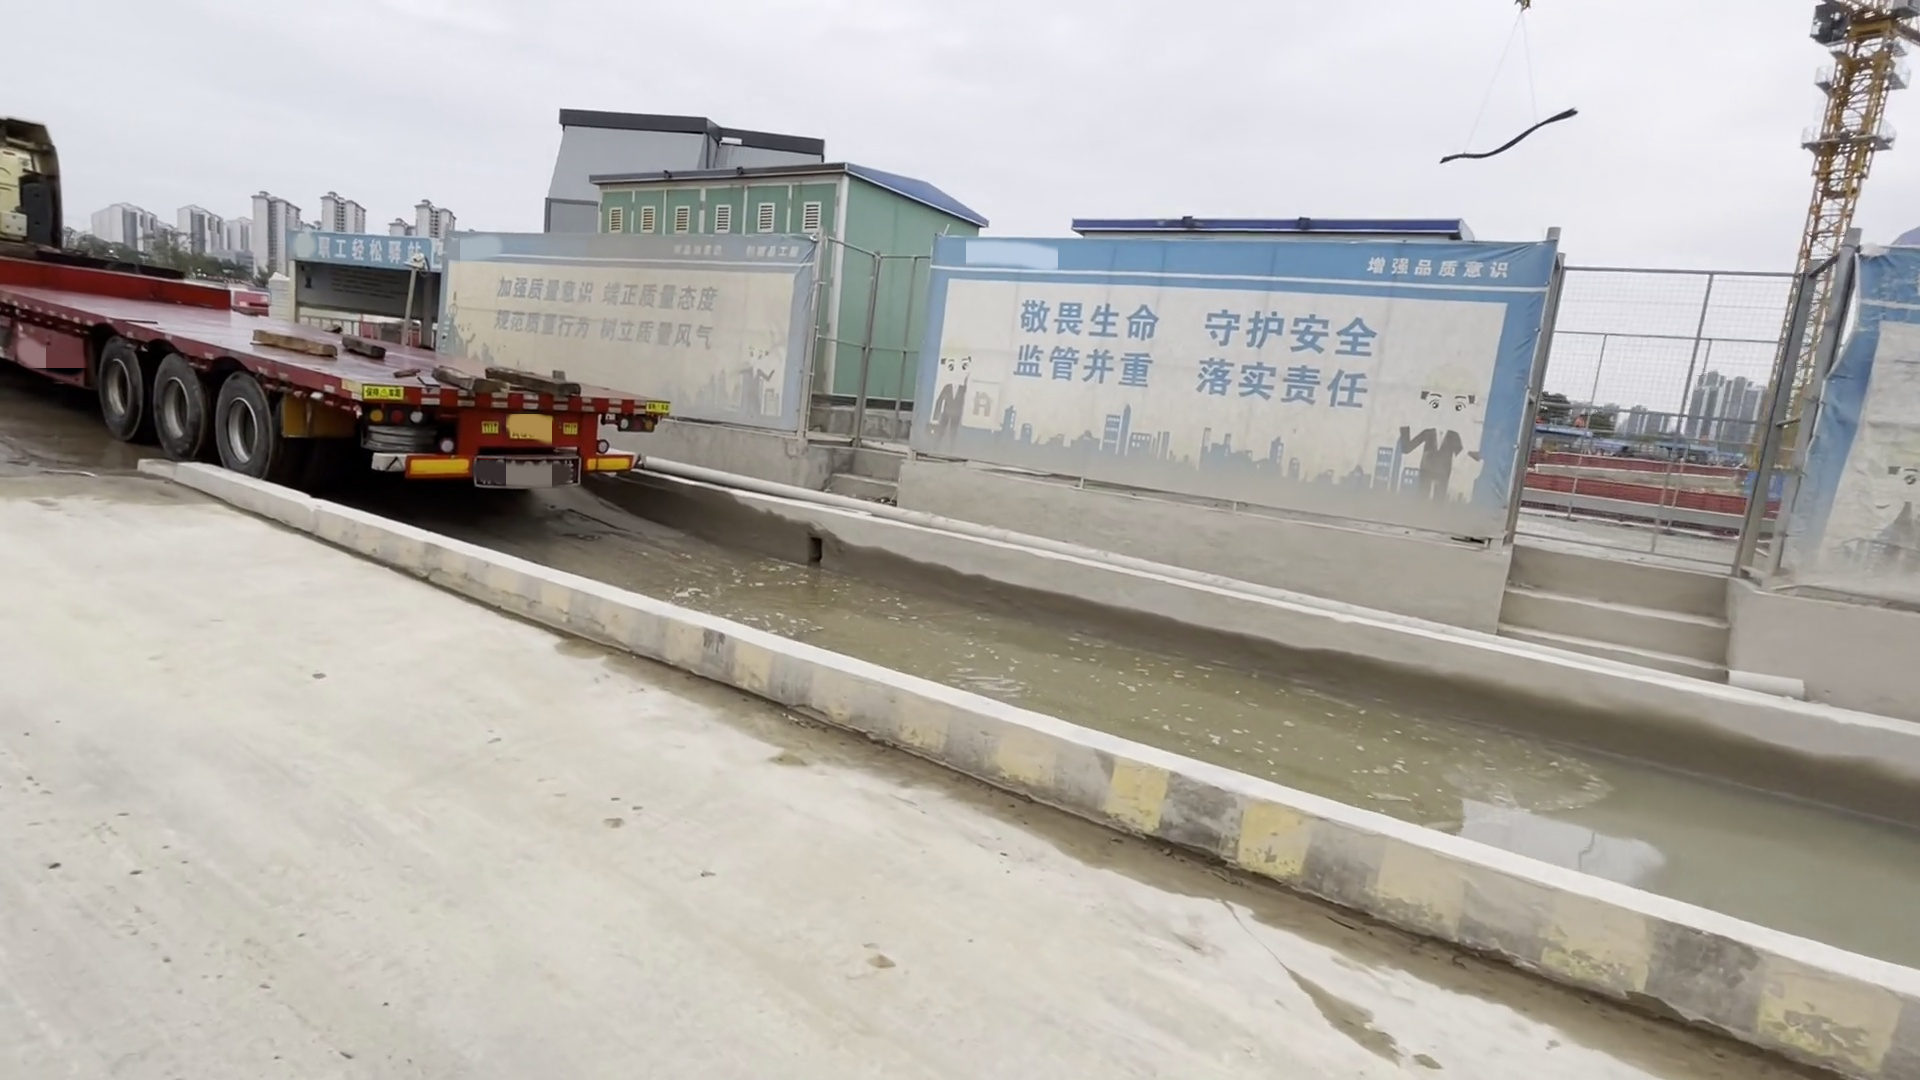slogan: (997, 285, 1393, 431), (484, 264, 756, 364), (1360, 252, 1538, 298), (670, 237, 803, 268)
